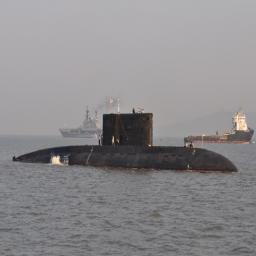submarine: (14, 113, 241, 173)
